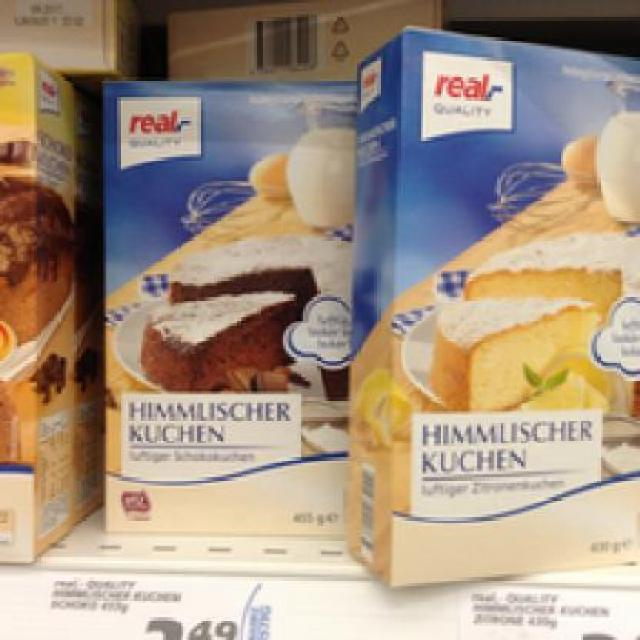Cake: (352, 22, 638, 592), (96, 71, 350, 540)
